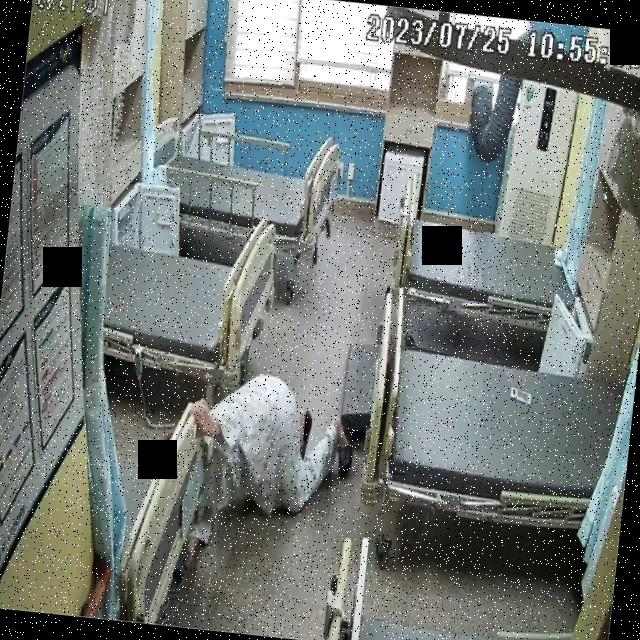bed: (378, 335, 628, 533), (94, 200, 284, 394), (143, 115, 340, 255), (390, 192, 582, 331)
fall: (156, 362, 361, 576)
patient: (156, 362, 362, 576)
